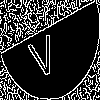V: (25, 25, 59, 81)
